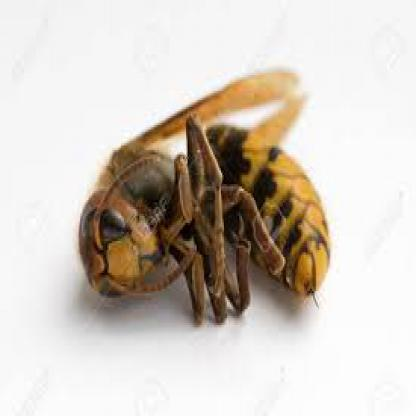european: (74, 62, 330, 352)
